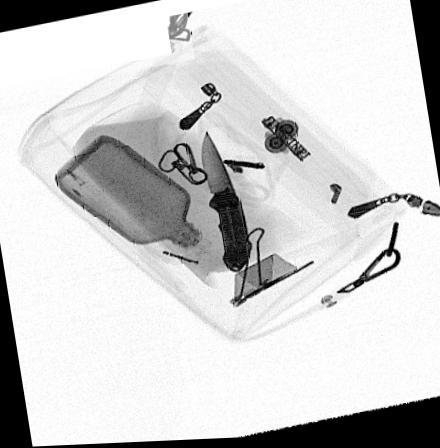Knife: (199, 130, 252, 277)
